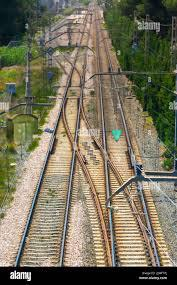Dust_screen: (107, 128, 124, 141)
